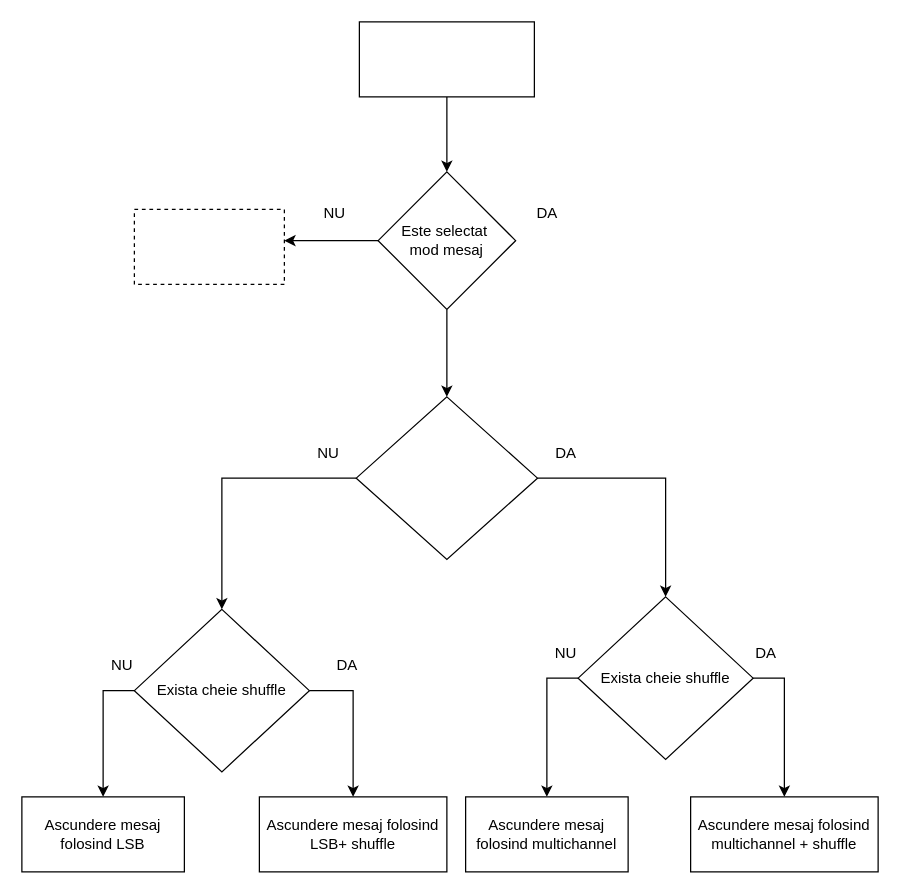
The diagram is 900 pixels wide and 894 high, and some of its shapes have lost their labels. Each missing label, with the centre of its shape:
"Ascunde mesaj text/fisier in imagine" goes at (446,59).
"Ascundere fisier" goes at (208,246).
"Este selectata tehnica multichannel" goes at (446,477).
